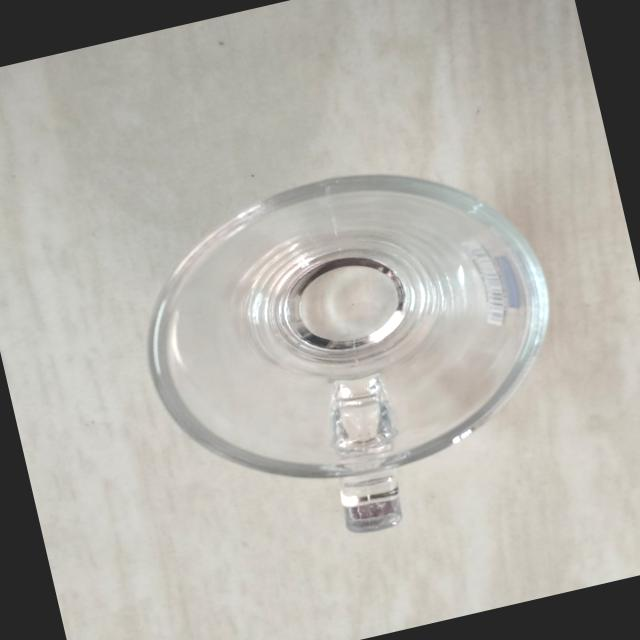glass-VX4N: (110, 130, 594, 578)
